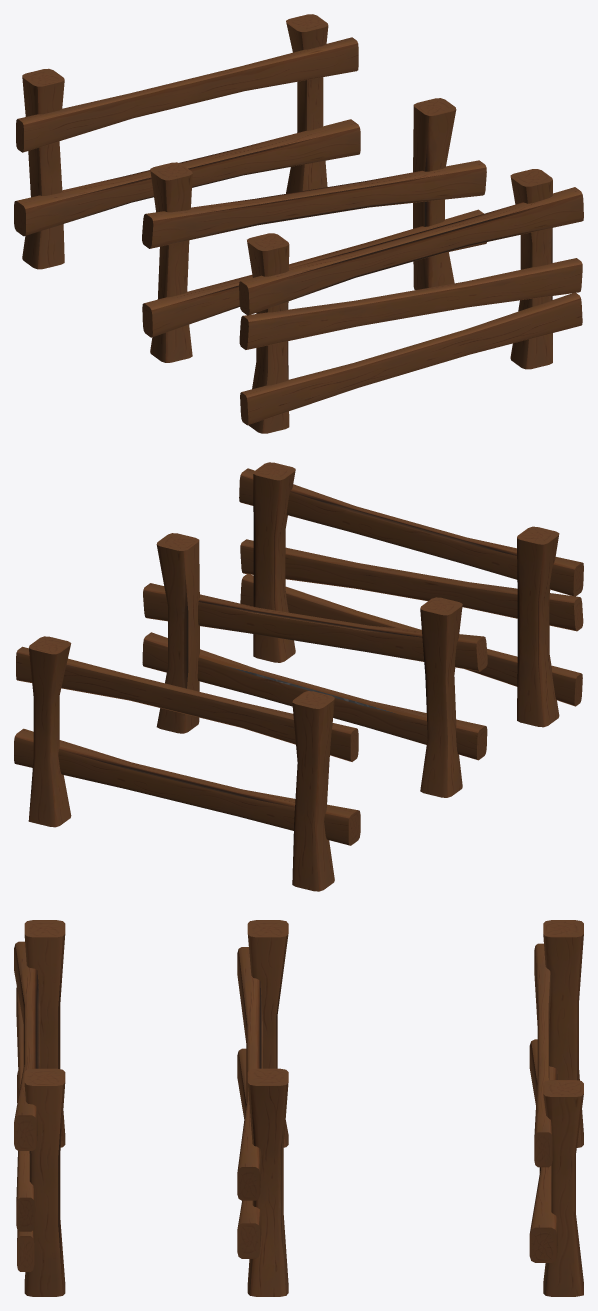
The picture shows the model from 3 angles, top to bottom: view 1: azimuth 30°, elevation 25°; view 2: azimuth 150°, elevation 25°; view 3: azimuth 270°, elevation 25°; orthographic projection. The views are drawn at different scales.
Parts seen in each view (by area): view 1: verticalplank1_LOD32, verticalplank1_LOD22, verticalplank1_LOD34, verticalplank1_LOD35, verticalplank1_LOD18, verticalplank1_LOD21, verticalplank1_LOD19, verticalplank1_LOD23, verticalplank1_LOD24, verticalplank1_LOD25, verticalplank1_LOD33, verticalplank1_LOD31 (+1 smaller); view 2: verticalplank1_LOD21, verticalplank1_LOD22, verticalplank1_LOD32, verticalplank1_LOD35, verticalplank1_LOD25, verticalplank1_LOD18, verticalplank1_LOD31, verticalplank1_LOD19, verticalplank1_LOD24, verticalplank1_LOD33, verticalplank1_LOD23, verticalplank1_LOD20 (+1 smaller); view 3: verticalplank1_LOD23, verticalplank1_LOD33, verticalplank1_LOD20, verticalplank1_LOD19, verticalplank1_LOD31, verticalplank1_LOD22, verticalplank1_LOD24, verticalplank1_LOD32, verticalplank1_LOD18, verticalplank1_LOD21, verticalplank1_LOD35, verticalplank1_LOD25 (+1 smaller).
Boxes of the visible parts, <box> form: verticalplank1_LOD32: <box>239,187,583,315</box>; verticalplank1_LOD22: <box>142,160,486,248</box>; verticalplank1_LOD34: <box>240,293,582,425</box>; verticalplank1_LOD35: <box>239,258,582,349</box>; verticalplank1_LOD18: <box>16,37,358,152</box>; verticalplank1_LOD21: <box>14,119,360,236</box>; verticalplank1_LOD19: <box>22,68,64,269</box>; verticalplank1_LOD23: <box>413,98,456,289</box>; verticalplank1_LOD24: <box>150,162,192,362</box>; verticalplank1_LOD25: <box>142,209,486,337</box>; verticalplank1_LOD33: <box>510,169,552,369</box>; verticalplank1_LOD31: <box>247,233,289,433</box>; verticalplank1_LOD21: <box>14,728,360,845</box>; verticalplank1_LOD22: <box>143,583,487,671</box>; verticalplank1_LOD32: <box>239,468,583,596</box>; verticalplank1_LOD35: <box>240,539,583,631</box>; verticalplank1_LOD25: <box>142,632,487,760</box>; verticalplank1_LOD18: <box>16,646,358,761</box>; verticalplank1_LOD31: <box>517,526,559,727</box>; verticalplank1_LOD19: <box>292,691,334,891</box>; verticalplank1_LOD24: <box>420,597,462,797</box>; verticalplank1_LOD33: <box>253,462,295,662</box>; verticalplank1_LOD23: <box>156,533,199,733</box>; verticalplank1_LOD20: <box>28,636,71,827</box>; verticalplank1_LOD23: <box>247,1068,288,1296</box>; verticalplank1_LOD33: <box>24,1068,65,1296</box>; verticalplank1_LOD20: <box>543,1080,583,1296</box>; verticalplank1_LOD19: <box>543,920,583,1147</box>; verticalplank1_LOD31: <box>24,920,65,1147</box>; verticalplank1_LOD22: <box>237,947,263,1200</box>; verticalplank1_LOD24: <box>247,920,288,1147</box>; verticalplank1_LOD32: <box>14,941,40,1150</box>; verticalplank1_LOD18: <box>534,943,552,1167</box>; verticalplank1_LOD21: <box>529,1039,558,1262</box>; verticalplank1_LOD35: <box>16,987,34,1231</box>; verticalplank1_LOD25: <box>237,1048,261,1258</box>.
Bounding box in the file's own units: 1.66 × 0.862 × 2.11.
